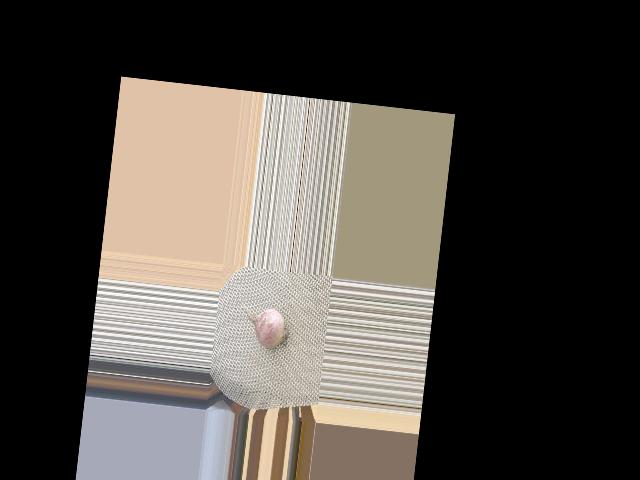beet: (232, 287, 294, 351)
